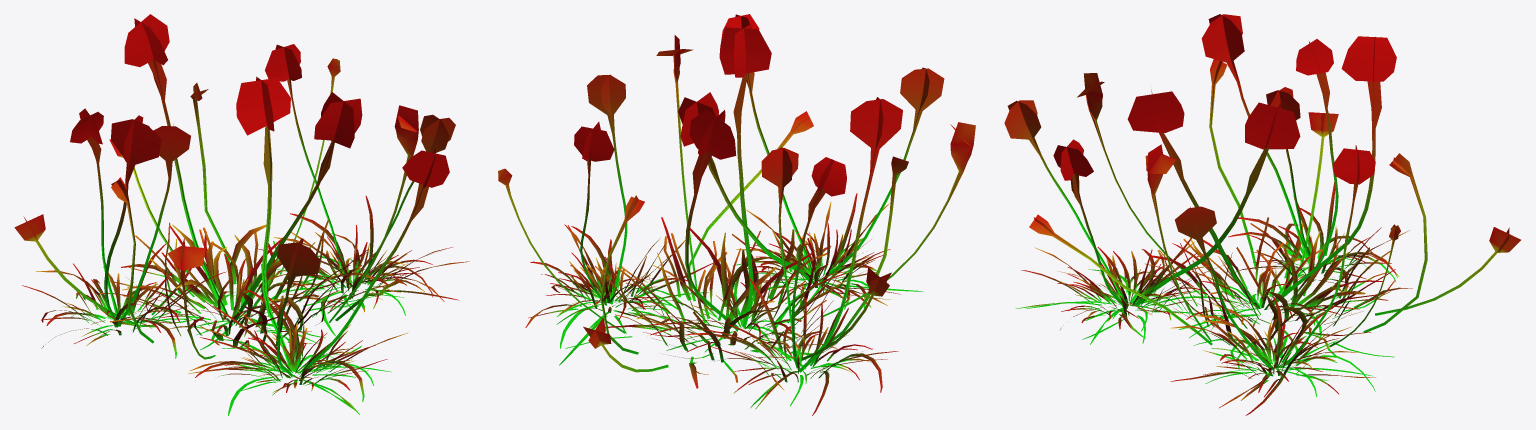
File: Var1_LOD1.fbx
3 views of the same model, side by side, from view 1: azimuth 30°, elevation 25°; view 2: azimuth 150°, elevation 25°; view 3: azimuth 270°, elevation 25° (orthographic). The views are drawn at different scales.
Parts seen in each view (by area): view 1: _5bz2_Var1_LOD1; view 2: _5bz2_Var1_LOD1; view 3: _5bz2_Var1_LOD1.
Boxes of the visible parts, x1,y1,x2,y2 form: _5bz2_Var1_LOD1: (14, 14, 469, 415); _5bz2_Var1_LOD1: (498, 14, 975, 415); _5bz2_Var1_LOD1: (1004, 14, 1520, 415).
Size of the model in its own units: 31.13 by 22.47 by 36.93.
